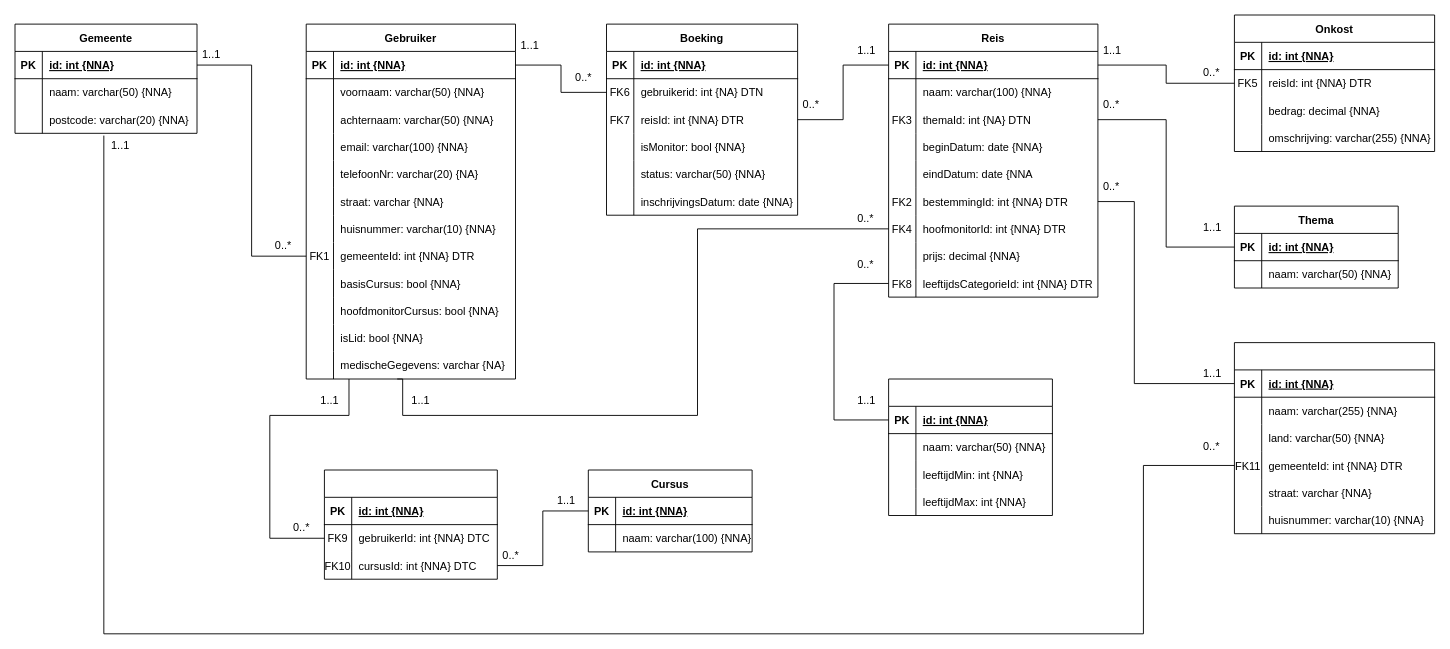
The diagram is 1450 pixels wide and 649 high, and some of its shapes have lost their labels. The shapes that lost their labels are listed below. From the top down, each one's box as (x1, y1, x2, y2) in pixels, then its label:
(888, 378, 1052, 516): LeeftijdsCategorie
(1234, 342, 1435, 534): Bestemming
(324, 469, 497, 579): GebruikerCursus
